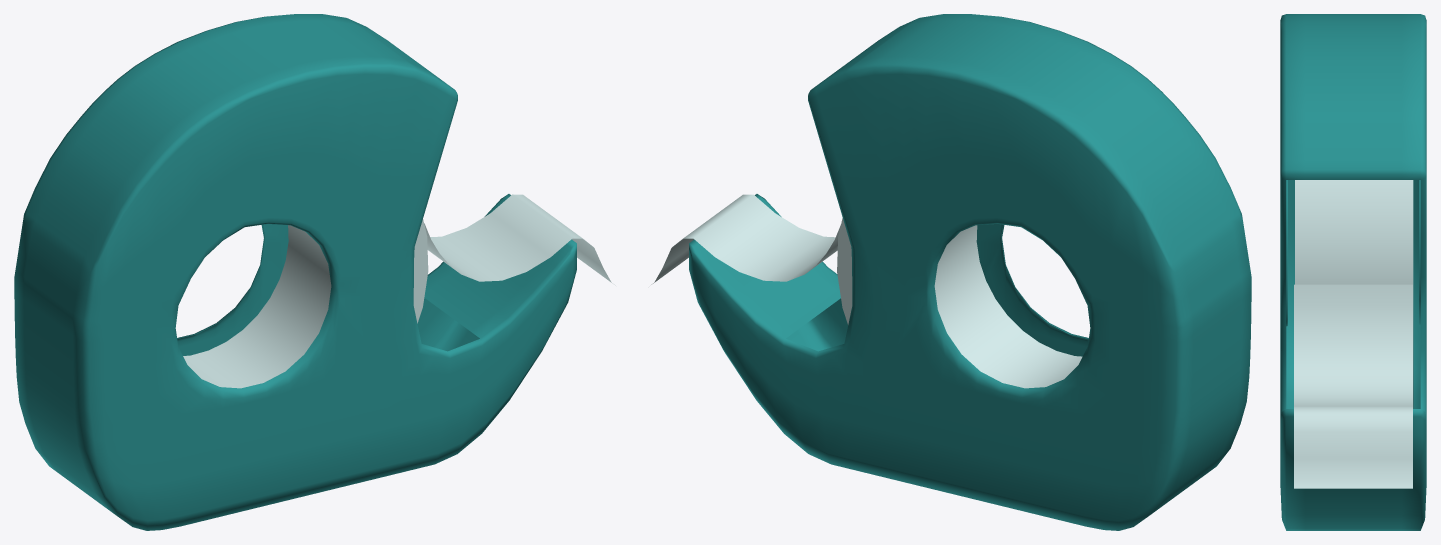
Rendered from SM_Scotch.FBX.
3 views of the same model, side by side, from view 1: azimuth 30°, elevation 25°; view 2: azimuth 150°, elevation 25°; view 3: azimuth 270°, elevation 25° (orthographic).
Parts seen in each view (by area): view 1: SM_Scotch; view 2: SM_Scotch; view 3: SM_Scotch.
Boxes of the visible parts, bbox=[...] form: SM_Scotch: bbox=[14, 14, 615, 530]; SM_Scotch: bbox=[651, 14, 1251, 530]; SM_Scotch: bbox=[1280, 14, 1426, 530].
Size of what is drawn, in the model's own units: 215 by 161 by 50.89.
